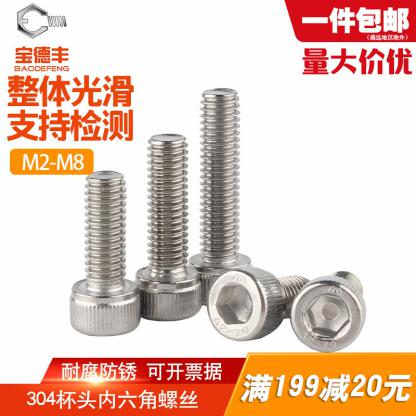FOD: (185, 86, 254, 302), (132, 132, 204, 321), (66, 168, 141, 338), (206, 266, 310, 342), (288, 268, 369, 353)
